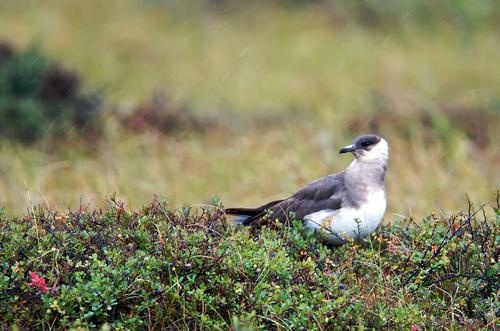bird: (225, 134, 388, 245)
